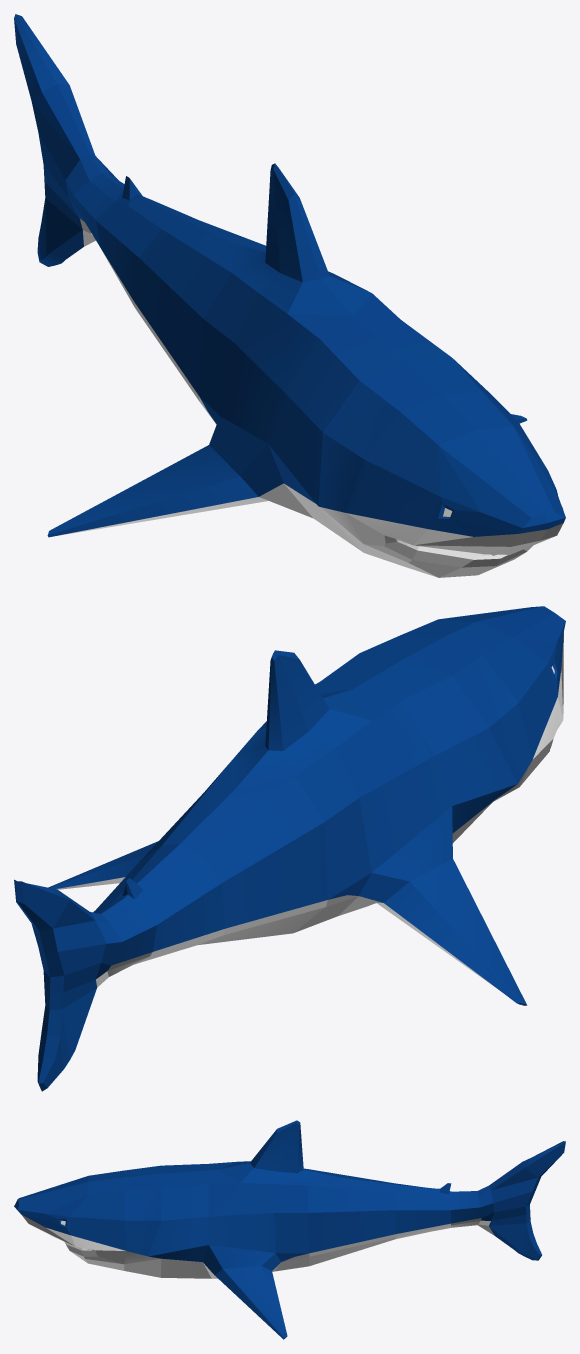
Rendered from Shark-1.fbx.
The picture shows the model from 3 angles, top to bottom: view 1: azimuth 30°, elevation 25°; view 2: azimuth 150°, elevation 25°; view 3: azimuth 270°, elevation 25°; orthographic projection. The views are drawn at different scales.
Visible parts, largest first — view 1: Shark-01; view 2: Shark-01; view 3: Shark-01.
Boxes of the visible parts, <box> form: Shark-01: <box>14,14,565,577</box>; Shark-01: <box>14,606,565,1091</box>; Shark-01: <box>14,1120,565,1339</box>.
Bounding box in the file's own units: 3.61 × 2.21 × 6.96.
